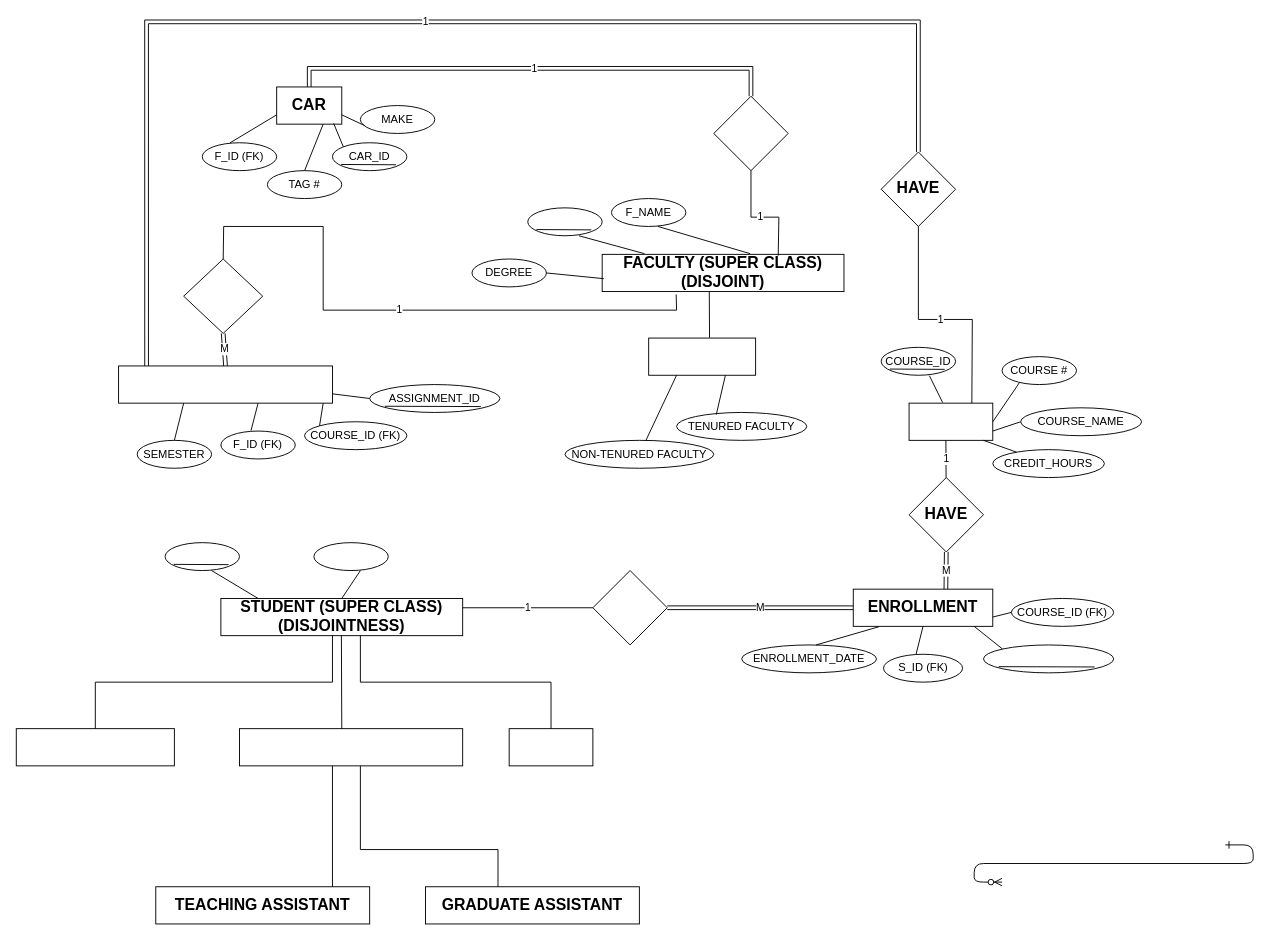
This 1278x940 diagram has some shape labels left out. The shapes that lost their labels are listed below. From the top down, each one's centre as x and y in pixels, then its label:
At pixel 750 133: "DRIVES".
At pixel 564 221: "F_ID".
At pixel 223 295: "ASSIGNED".
At pixel 702 356: "TENURED STATUS".
At pixel 225 384: "TEACHING ASSIGNMENT".
At pixel 950 421: "COURSE".
At pixel 201 556: "S_ID".
At pixel 350 556: "S_NAME".
At pixel 629 607: "ENROLLS".
At pixel 1048 658: "ENROLLMENT_ID".
At pixel 94 747: "UNDERGRADUATE".
At pixel 351 747: "GRADUATE (SUPER CLASS) (OVERLAPPING)".
At pixel 550 747: "SPECIAL".
